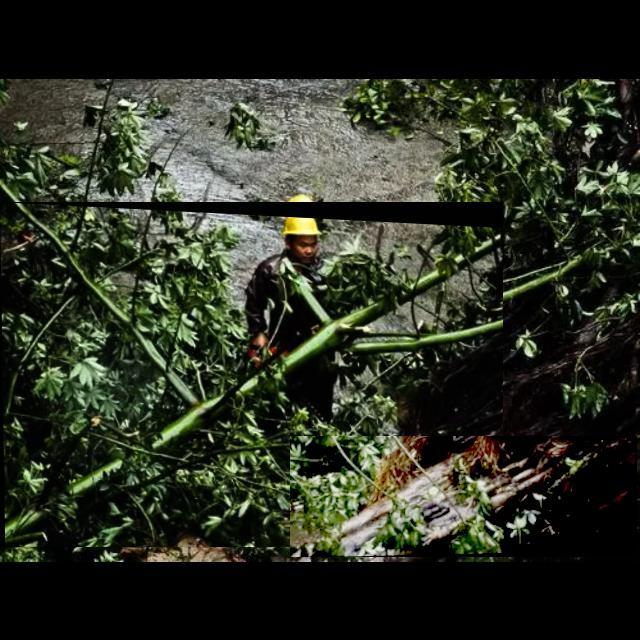fallen_tree: (0, 202, 504, 548), (290, 436, 638, 558)
